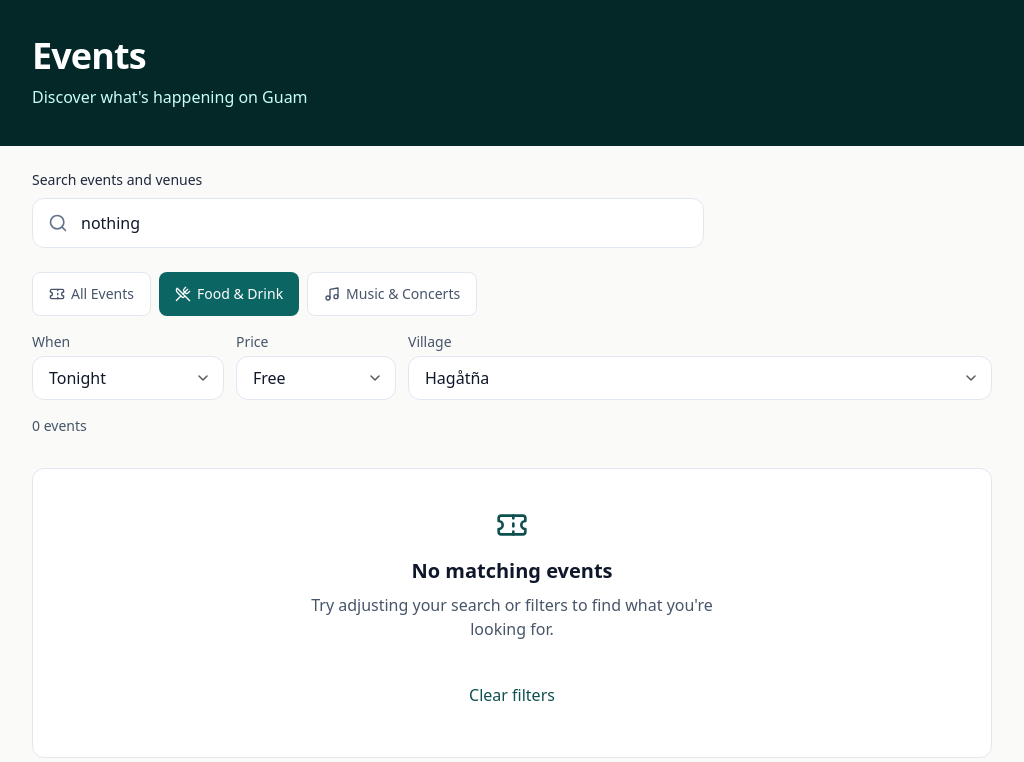
Test: event guide filters and recovery › keeps no-match filters when the marketplace has events and restores results after clearing
Expected: the heading "No matching events" is shown, [411, 557, 612, 584]
Expected: the field labelled "Search events and venues" holds "nothing", [32, 198, 704, 248]
Click the button "Clear filters" at {"x": 512, "y": 695}, box [457, 673, 567, 717]
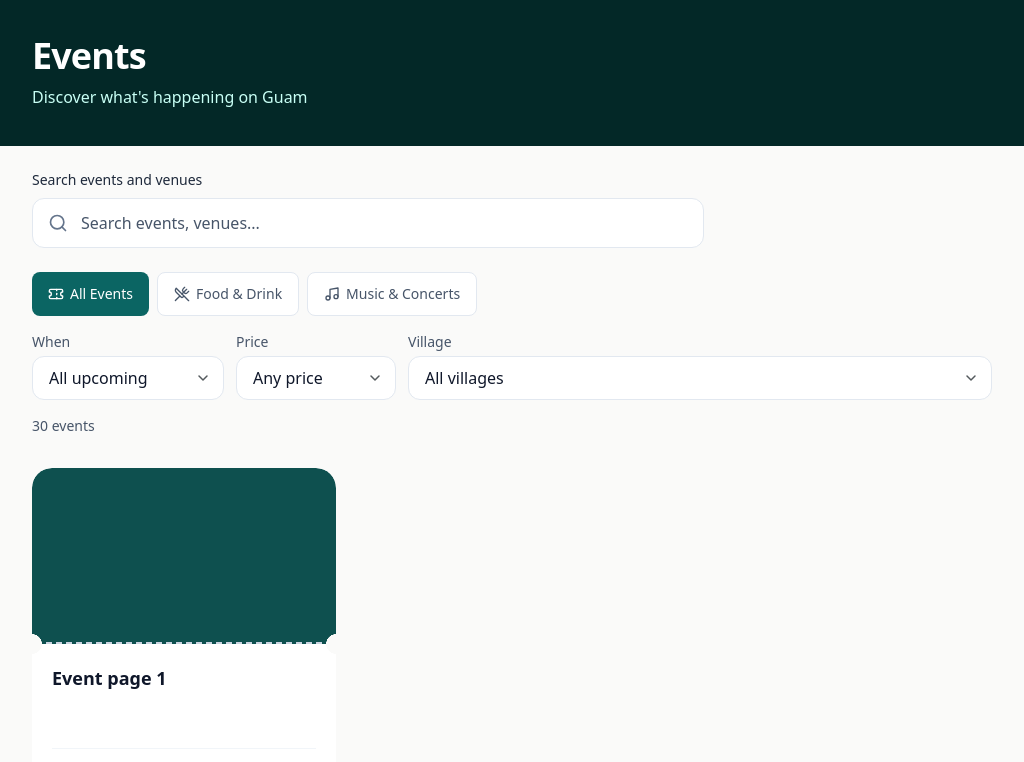
Result: the heading "Event page 1" is shown at [52, 666, 167, 690]
